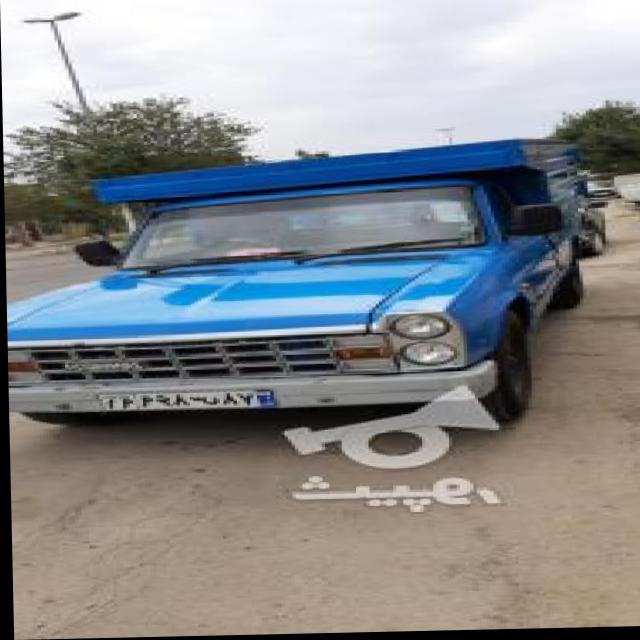licence: (94, 388, 285, 411)
